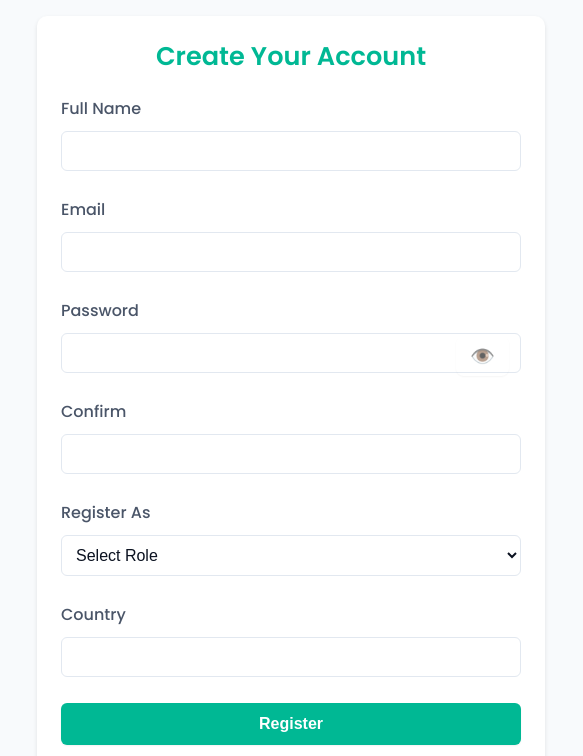
Test: RegisterPage (customer) › navigates on successful registration
In the field labelled "Full Name": point(291, 151) [61,131,521,171], type "Test User"
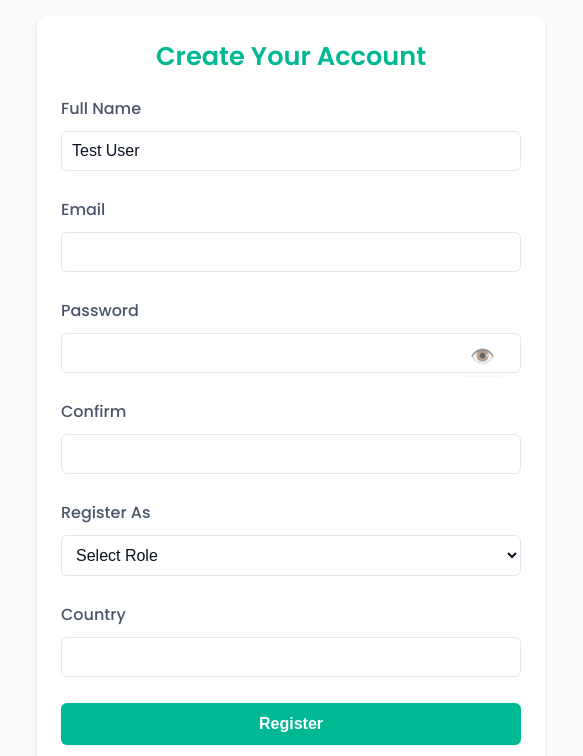
In the field labelled "Email": point(291, 252) [61,232,521,272], type "test@example.com"
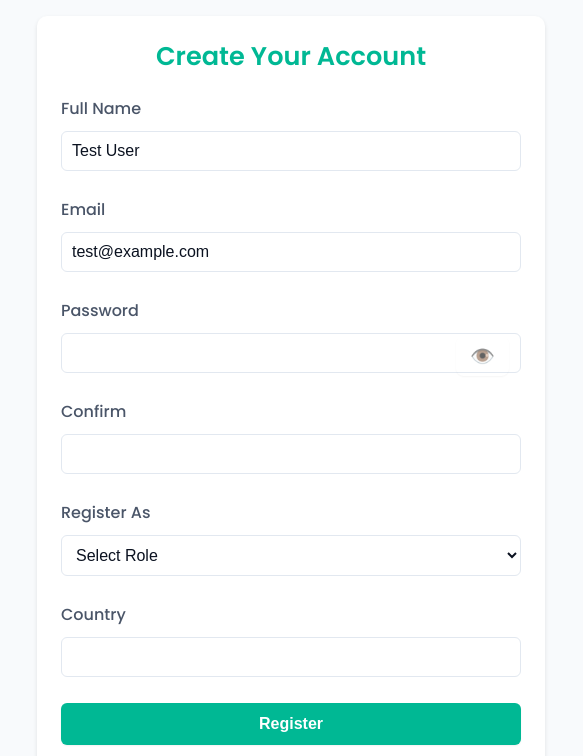
In the password field labelled "Password": point(291, 353) [61,333,521,373], type "password123"
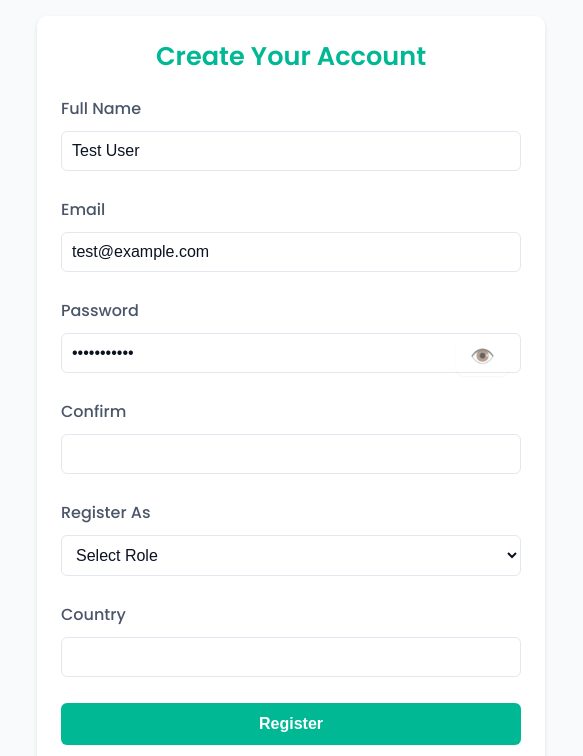
In the field labelled "Country": point(291, 657) [61,637,521,677], type "Ethiopia"
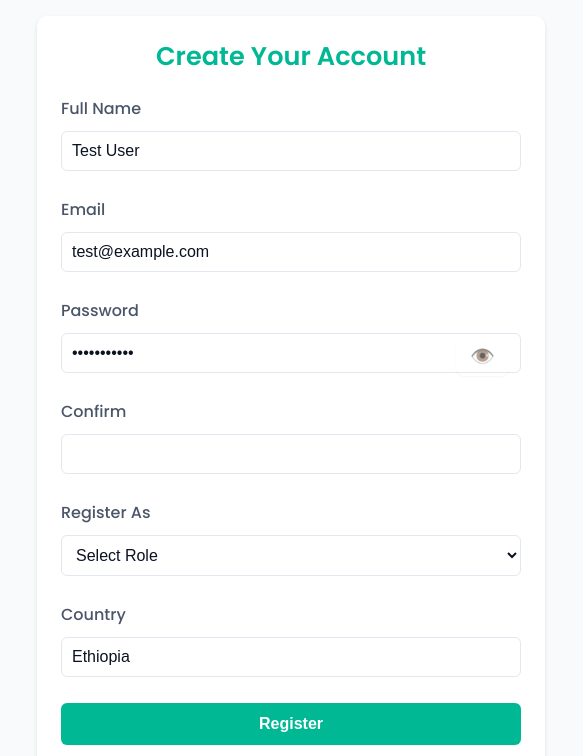
Select "Customer (Buyer)" in the dropdown labelled "Register As": point(291, 556) [61,535,521,576]
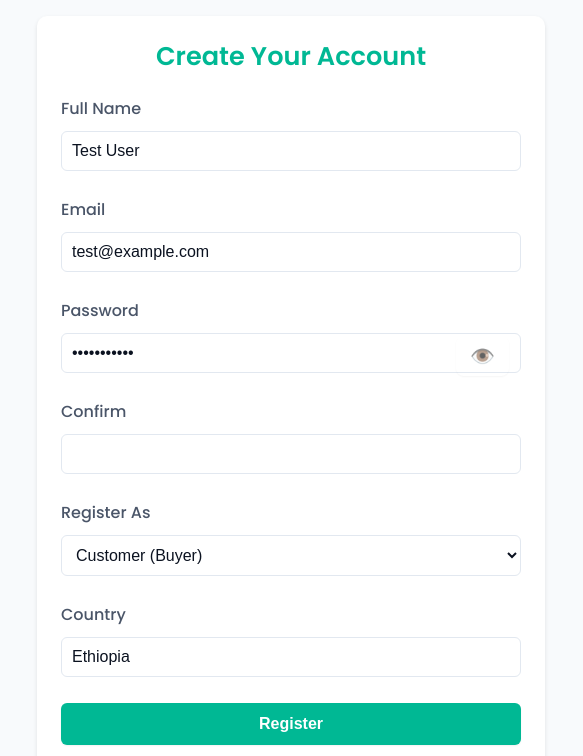
Click the button "Register": point(291, 724) [61,703,521,745]
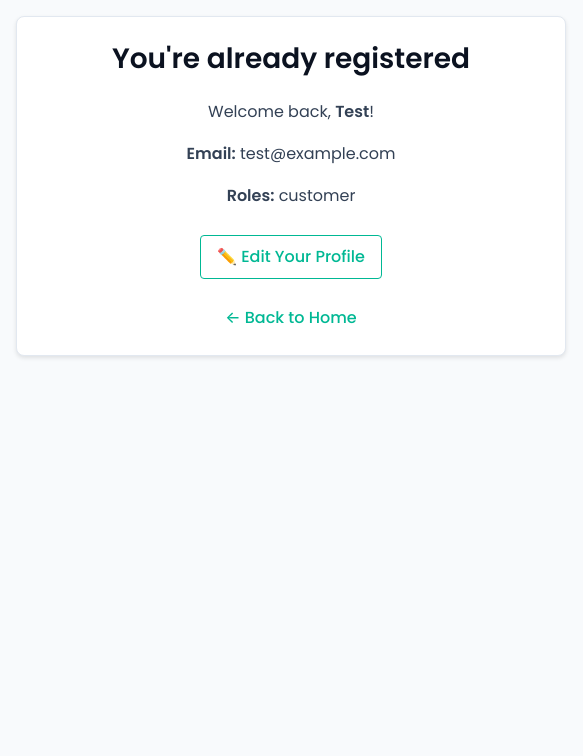
Result: the text "You're already registered" is shown at [112,39,470,78]
